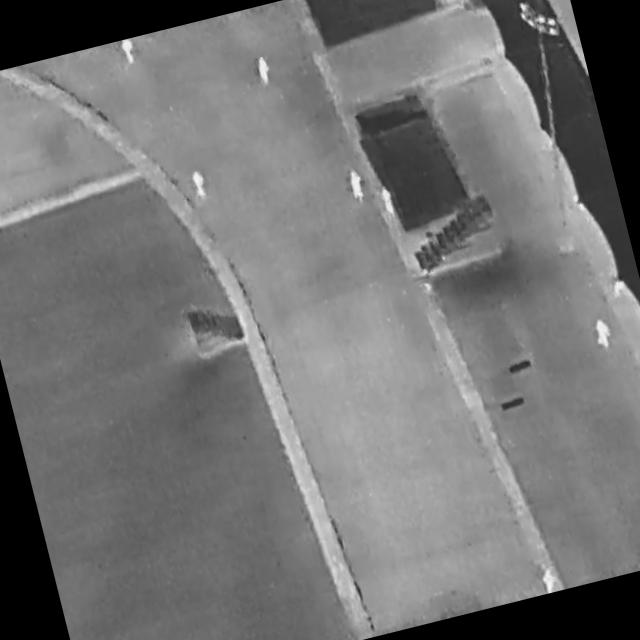person: (592, 314, 616, 351), (378, 184, 400, 221), (347, 166, 367, 204), (254, 53, 274, 88), (539, 566, 562, 594), (190, 169, 210, 201), (120, 39, 139, 66)
